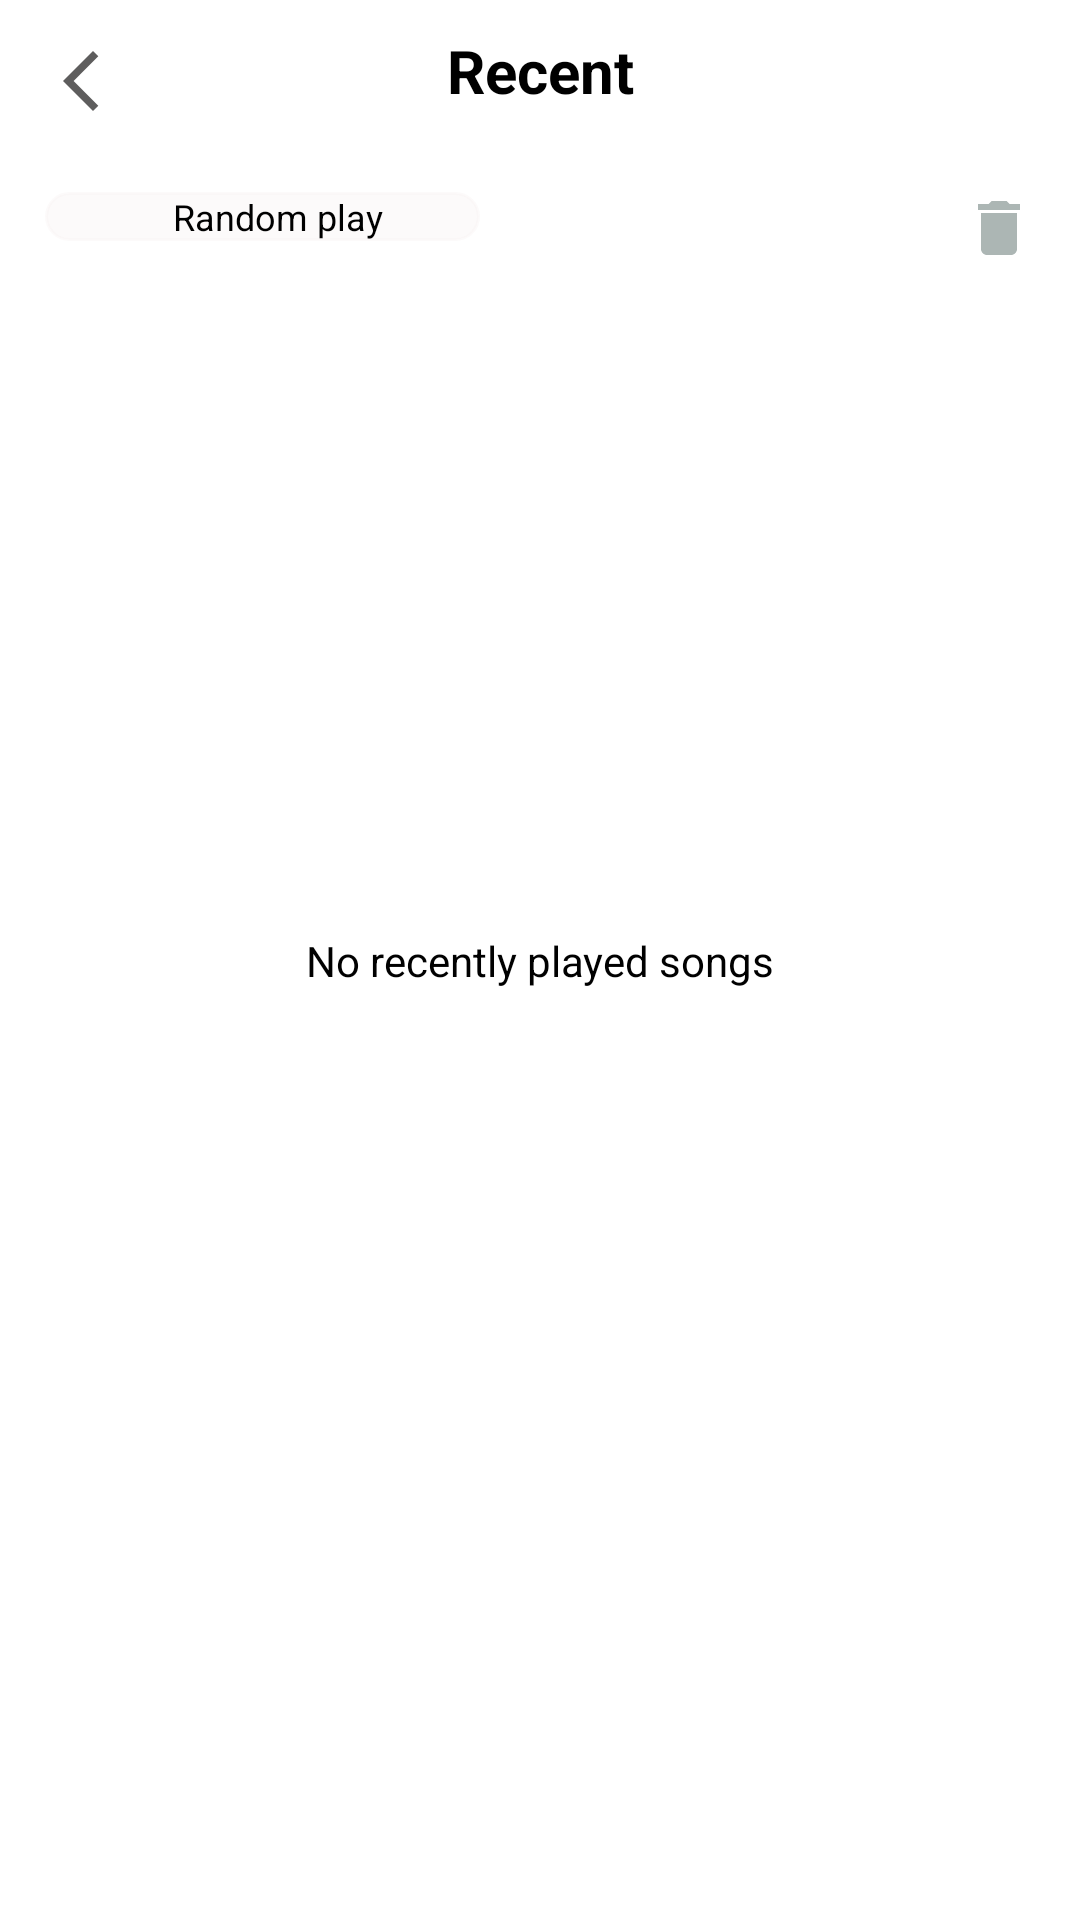

Icons on this 1080 × 1920 Android screen, each with its box as rect(x1, y1, x2, y2):
arrow back: rect(63, 51, 98, 111)
